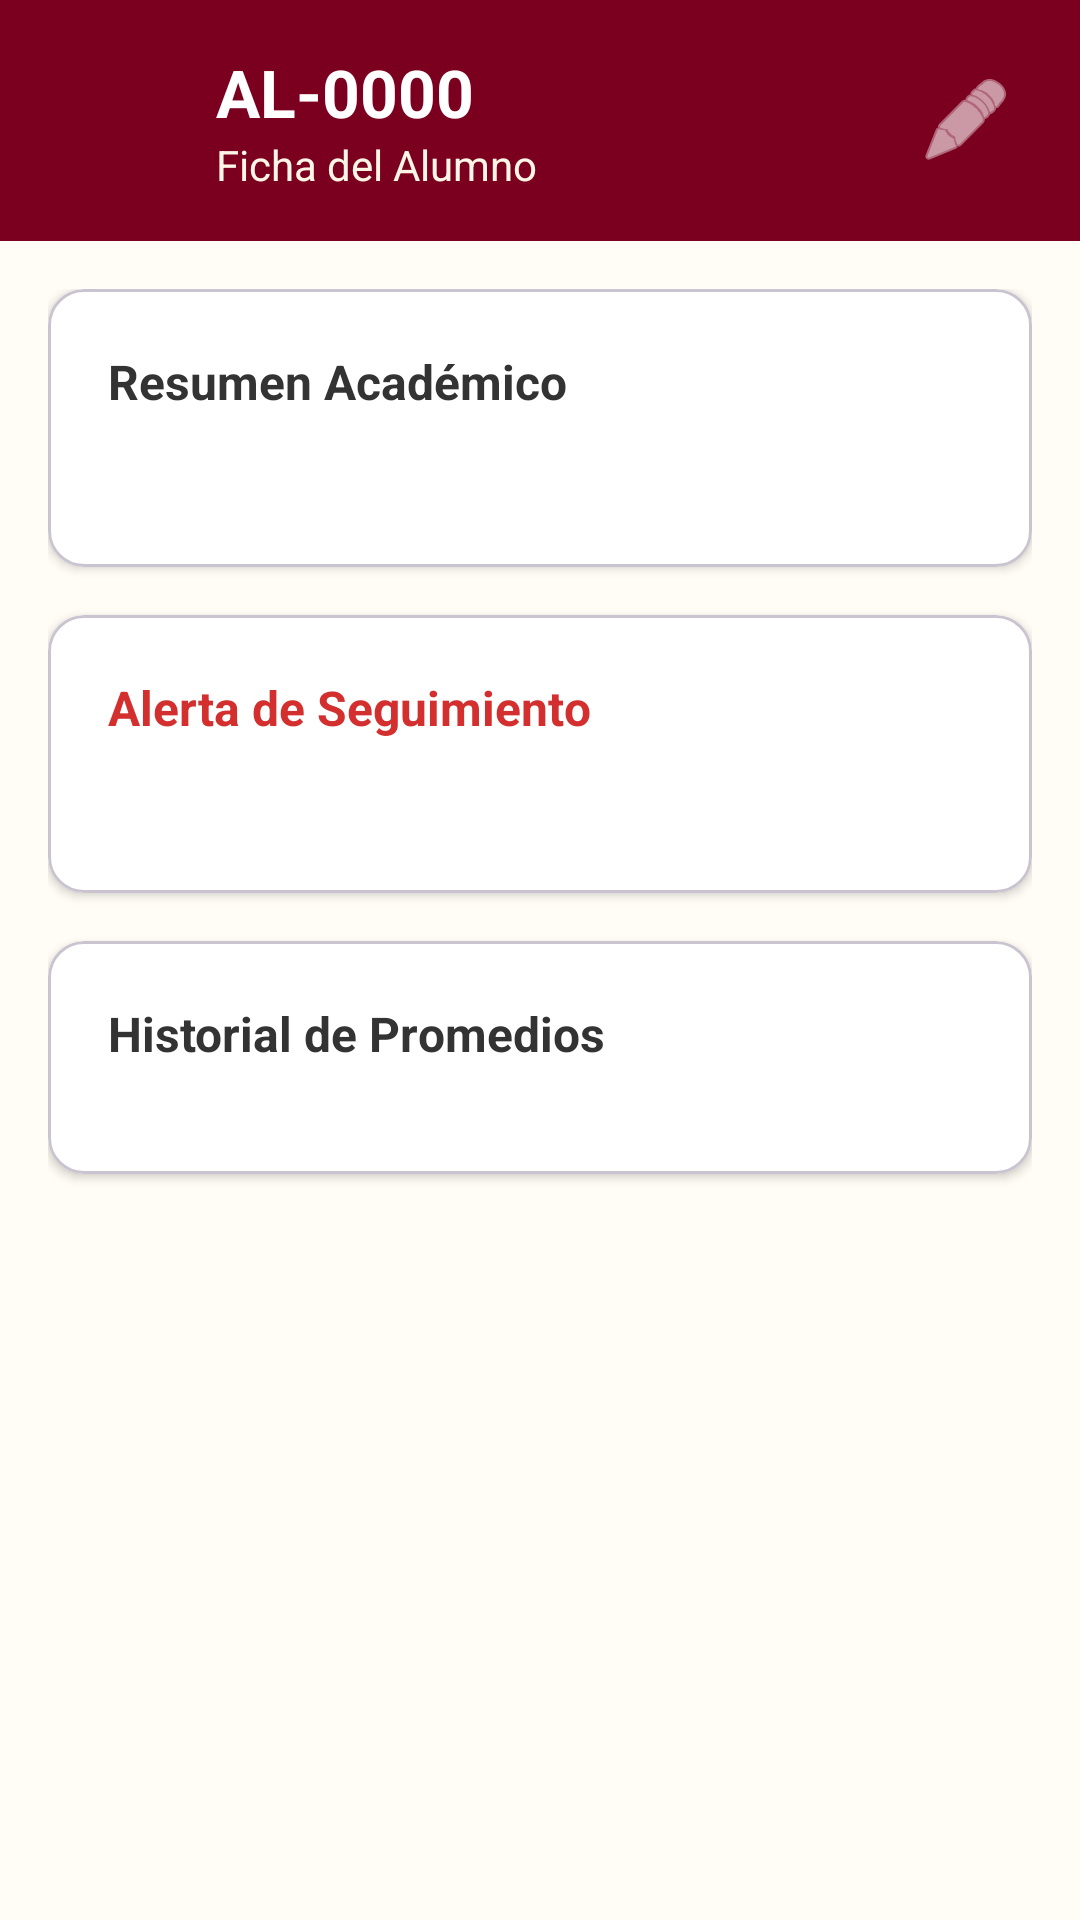

Named icons in this screenshot (1080*1920) and their centers, (x,y):
Editar: (965,119)
